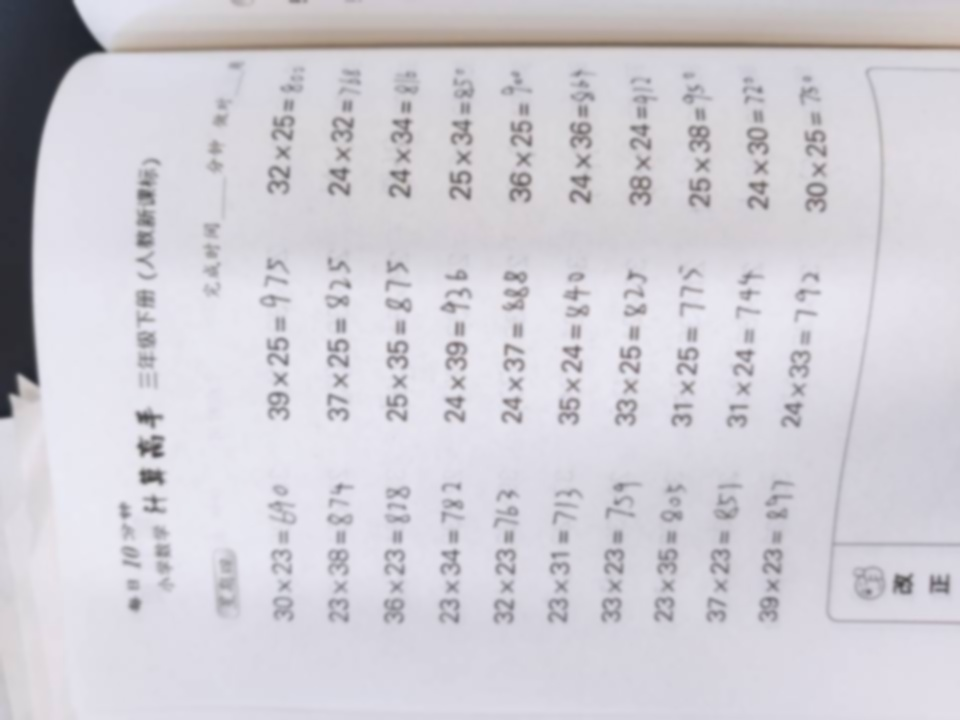equation: (251, 248, 305, 428), (316, 251, 368, 432), (605, 258, 657, 439), (545, 257, 597, 438), (485, 255, 537, 436), (430, 251, 482, 432), (376, 252, 428, 433), (717, 261, 769, 442), (660, 254, 712, 435), (787, 55, 839, 236), (773, 256, 825, 437), (615, 46, 667, 227), (673, 42, 725, 223), (731, 47, 783, 228), (495, 42, 547, 223), (555, 42, 607, 223), (258, 41, 310, 222), (434, 39, 486, 220), (373, 35, 425, 216), (311, 33, 363, 214), (253, 469, 307, 629), (431, 475, 485, 635), (377, 476, 431, 636), (315, 475, 369, 635), (641, 474, 695, 634), (590, 476, 644, 636), (531, 472, 585, 632), (480, 472, 534, 632), (747, 472, 801, 632), (699, 472, 753, 632)
